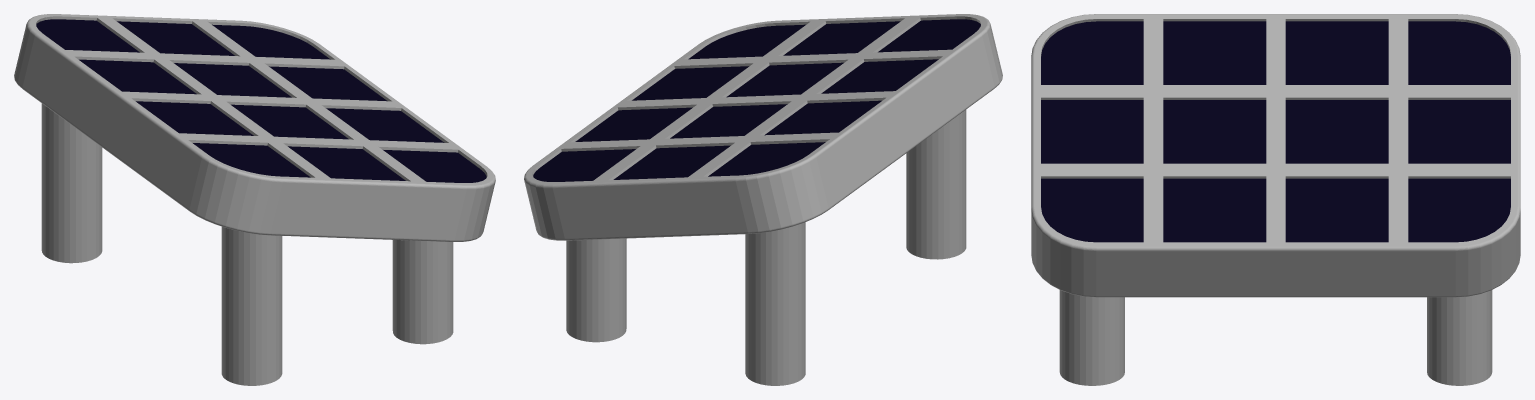
Rendered from structure_solar_panel_array.fbx.
3 renders of one model, left to right at view 1: azimuth 30°, elevation 25°; view 2: azimuth 150°, elevation 25°; view 3: azimuth 270°, elevation 25°, orthographic. The views are drawn at different scales.
Visible parts, largest first — view 1: SolarPanelArray; view 2: SolarPanelArray; view 3: SolarPanelArray.
Boxes of the visible parts, <box> form: SolarPanelArray: <box>14,14,495,385</box>; SolarPanelArray: <box>524,14,1002,385</box>; SolarPanelArray: <box>1031,14,1520,385</box>.
Bounding box in the file's own units: 0.75 × 0.5669 × 0.4126.
